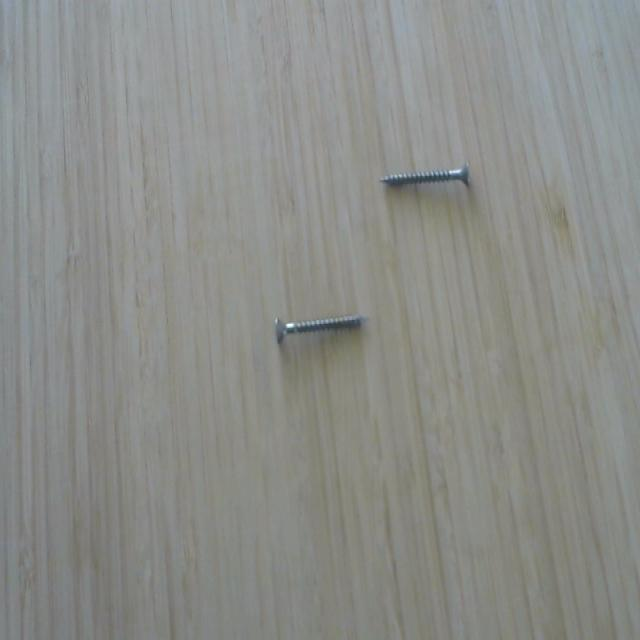Black screw: (270, 310, 371, 347), (376, 161, 476, 197)
